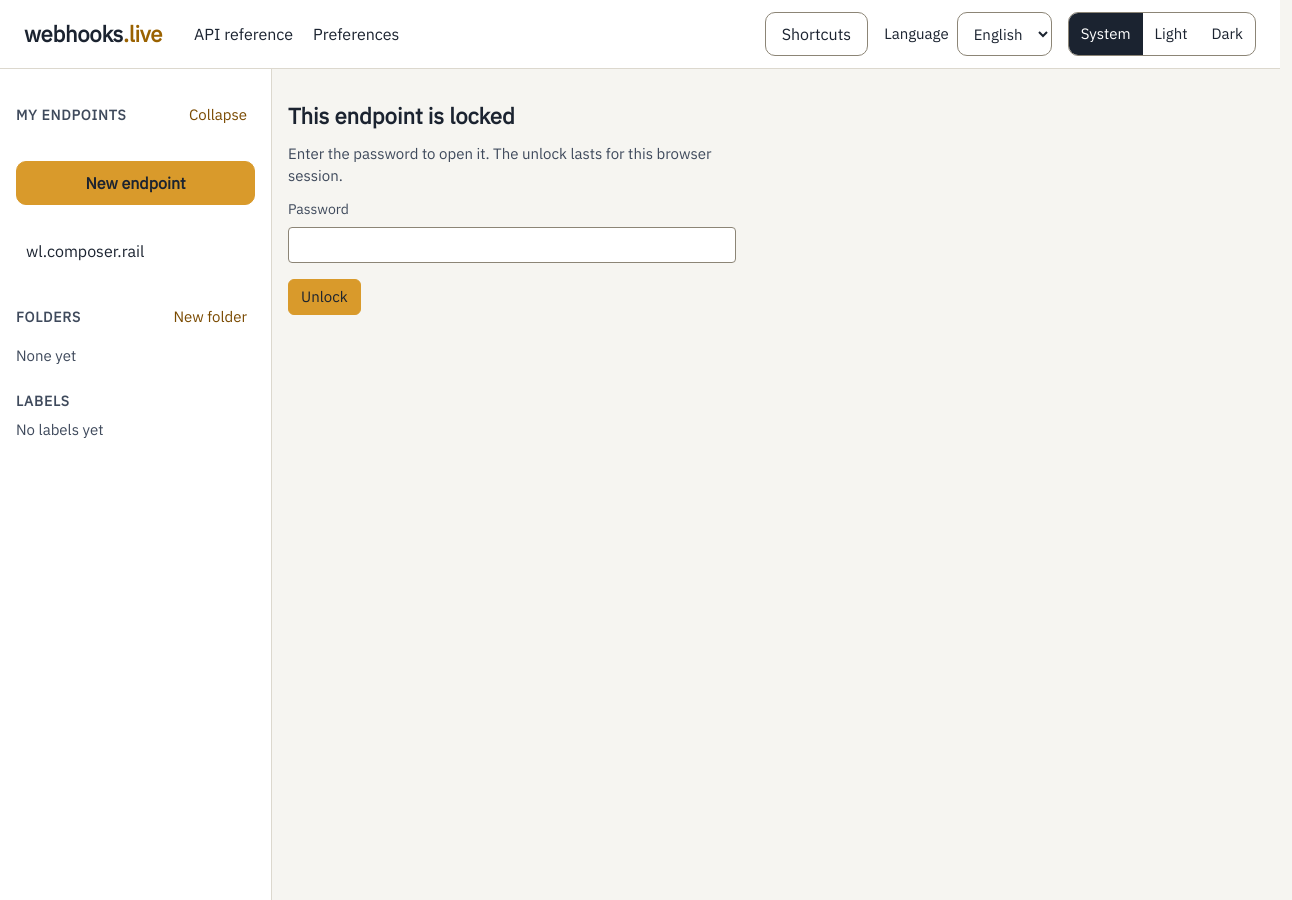
it: unlock page › opens a locked endpoint after the right password and sends the grant afterwards
Check: the heading "This endpoint is locked" is shown, box x1=288 y1=101 x2=515 y2=131
Type "not-a-real-password" into the password field labelled "Password".
click(512, 245); type("not-a-real-password")  # box x1=288 y1=227 x2=736 y2=263
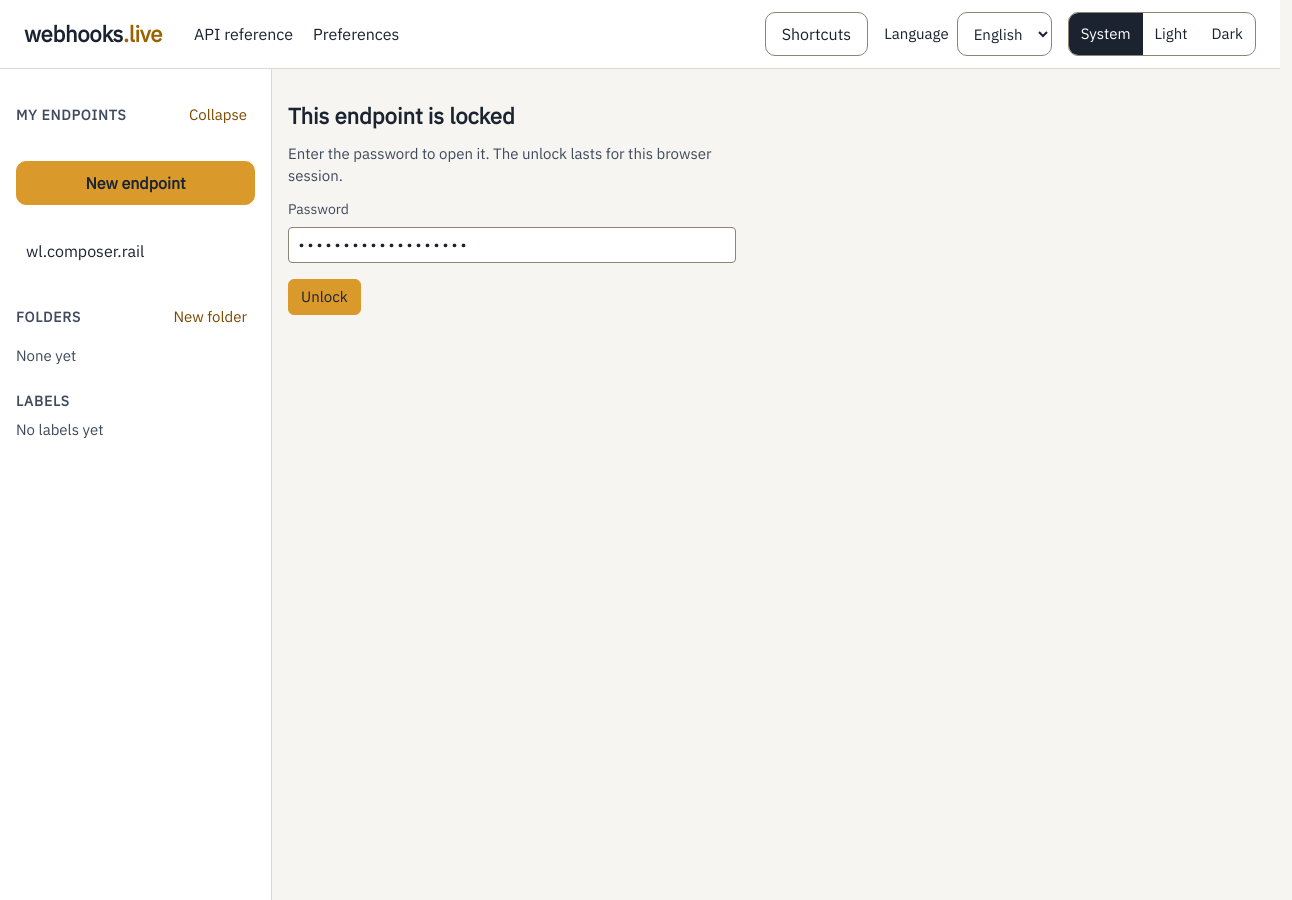
Click the button "Unlock".
click(324, 297)  # box x1=288 y1=279 x2=361 y2=315
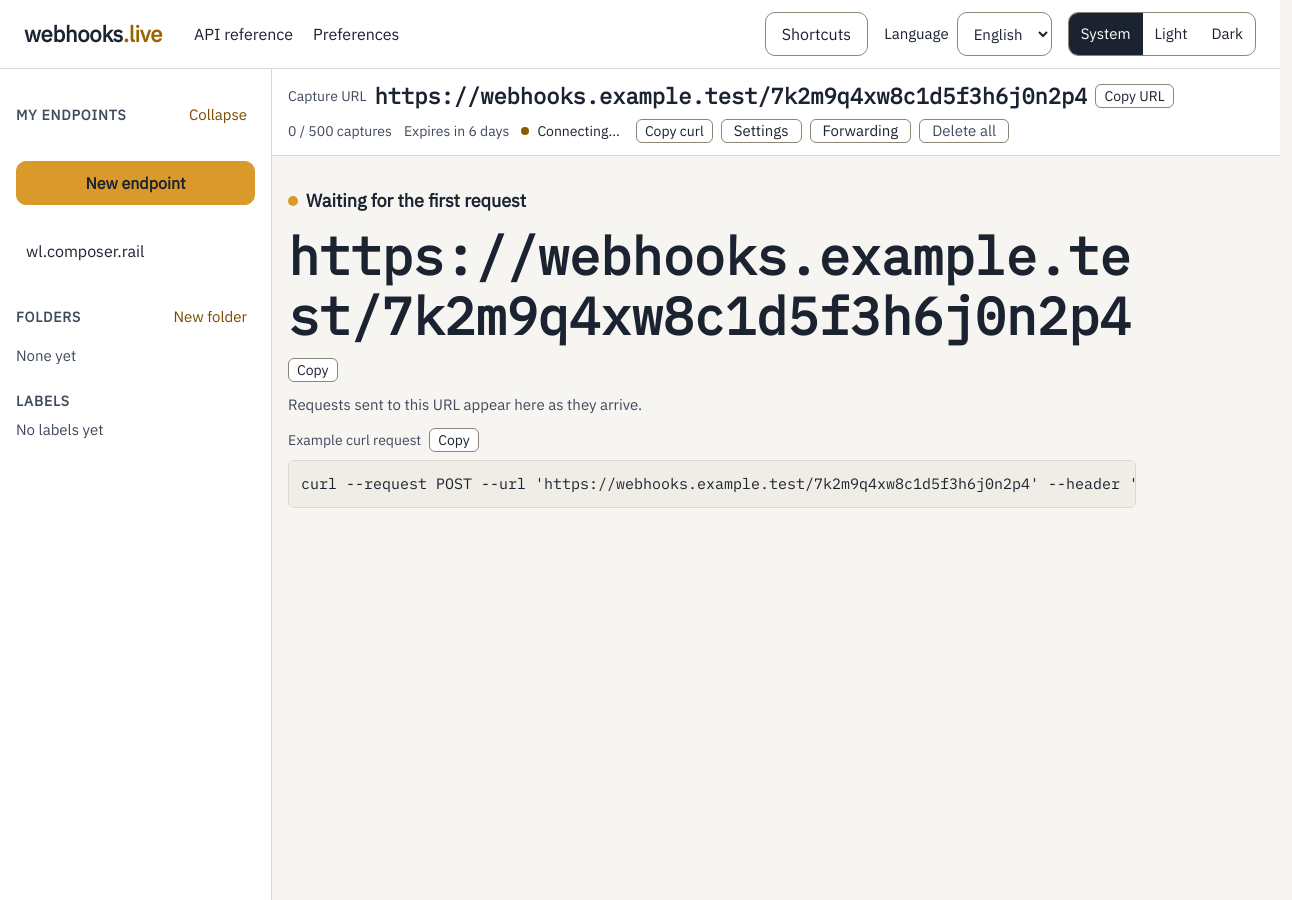
Check: the heading "This endpoint is locked" is gone
